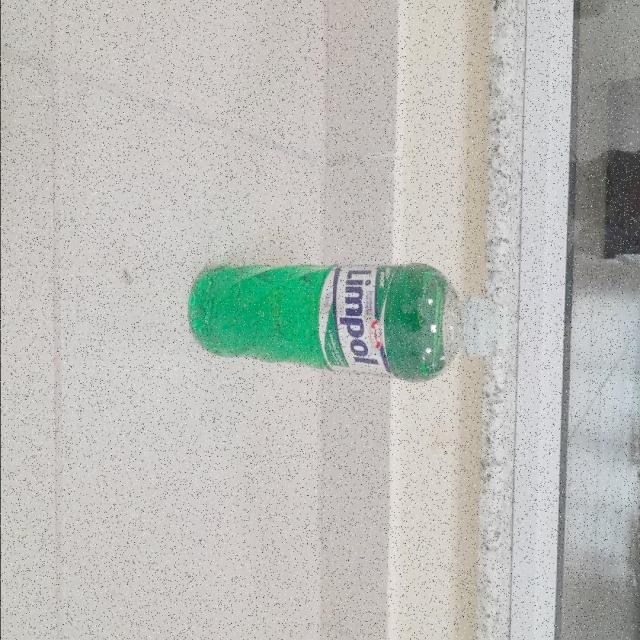Cleaner: (188, 259, 504, 383)
